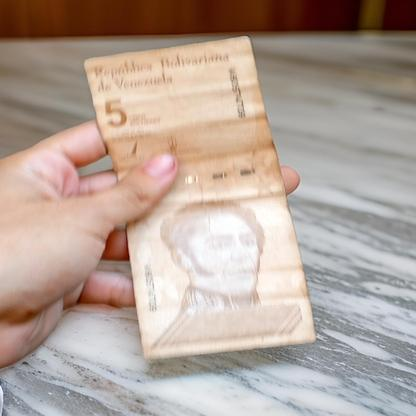five-front-vef: (82, 35, 316, 358)
